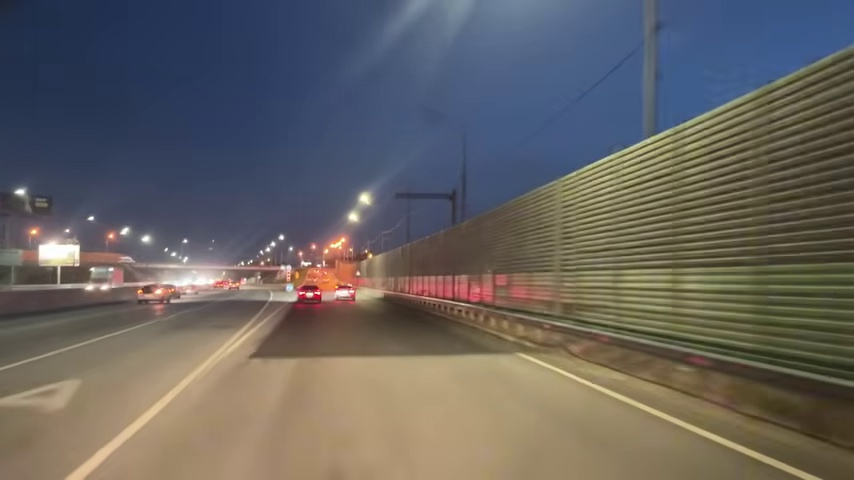acesa: (352, 190, 374, 217), (346, 205, 368, 225), (356, 190, 374, 208), (12, 185, 29, 203), (345, 209, 362, 227), (328, 236, 346, 252)
